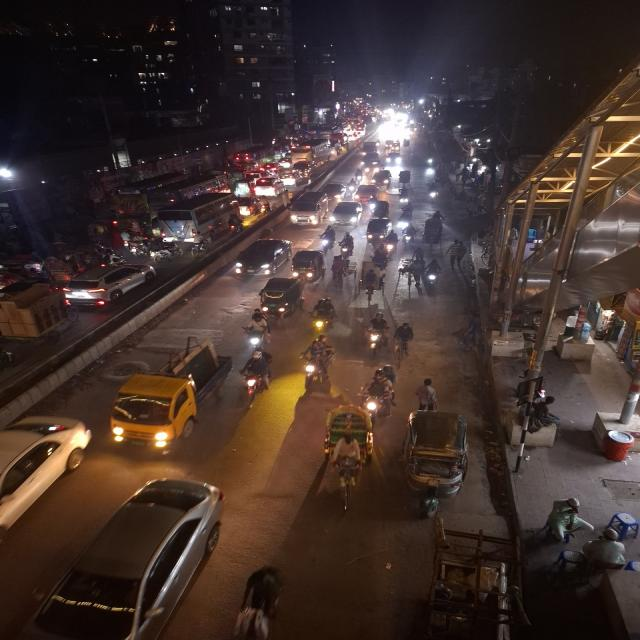bus: (157, 192, 235, 240)
car: (14, 478, 231, 640), (0, 414, 93, 534), (60, 260, 155, 306), (231, 236, 292, 278), (288, 190, 329, 228), (329, 199, 363, 227), (252, 176, 285, 198), (235, 196, 263, 217), (354, 183, 379, 203), (323, 182, 349, 201), (360, 150, 382, 168), (385, 152, 404, 168)
cng: (402, 409, 470, 517), (256, 275, 304, 323), (291, 247, 326, 287), (366, 216, 392, 250), (372, 168, 394, 190), (396, 168, 413, 190), (234, 178, 251, 196)
motorcycle: (361, 362, 397, 418), (300, 334, 335, 388), (240, 347, 272, 403), (364, 308, 389, 358), (310, 295, 338, 339), (397, 246, 424, 288), (243, 312, 271, 352), (186, 228, 212, 254), (425, 256, 442, 290), (338, 230, 356, 258), (225, 213, 246, 234), (321, 224, 337, 250), (425, 184, 441, 204), (398, 188, 412, 210), (403, 222, 416, 245), (350, 170, 366, 186)
pedestrian: (446, 238, 466, 267)
pickup_van: (98, 327, 228, 453), (0, 286, 71, 346), (1, 286, 72, 346)
rickshaw: (321, 404, 374, 508), (360, 265, 381, 301), (421, 218, 445, 248), (396, 168, 415, 190)
